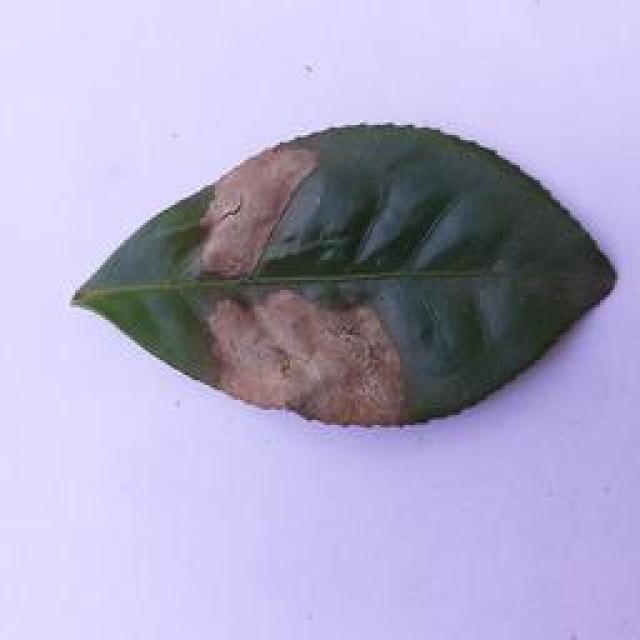Gray Blight: (59, 118, 619, 432)
